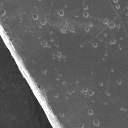corrosion: (59, 23, 69, 33), (39, 39, 48, 48), (92, 119, 101, 128), (81, 10, 90, 18), (39, 18, 48, 26), (56, 50, 63, 60), (108, 20, 115, 30), (57, 9, 65, 17), (40, 68, 48, 76), (91, 40, 98, 49), (1, 8, 7, 18), (31, 14, 39, 21), (87, 89, 94, 97), (87, 108, 94, 116), (102, 17, 109, 25), (120, 106, 128, 113), (82, 3, 89, 10), (114, 3, 121, 10), (52, 92, 59, 99), (110, 37, 116, 45), (84, 25, 90, 33), (116, 78, 122, 86), (48, 36, 55, 42), (98, 81, 104, 87), (104, 90, 110, 96), (103, 51, 108, 57), (103, 32, 108, 38), (61, 80, 66, 85), (79, 43, 84, 48), (110, 67, 114, 73)
